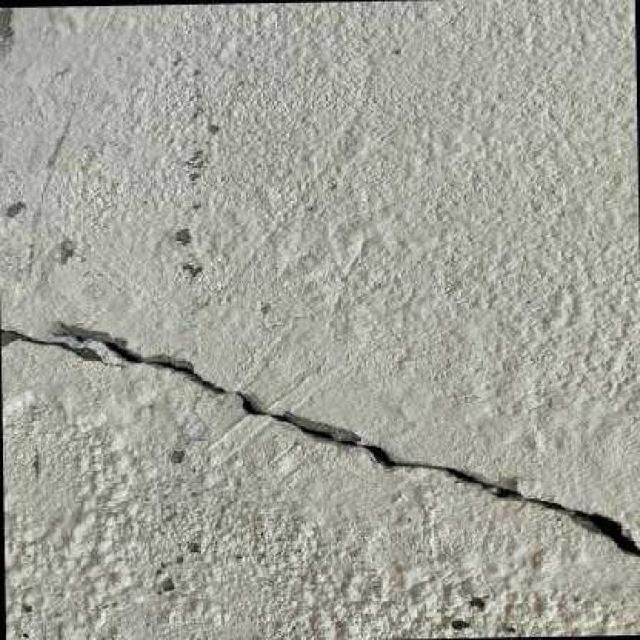D00: (0, 321, 640, 556)
